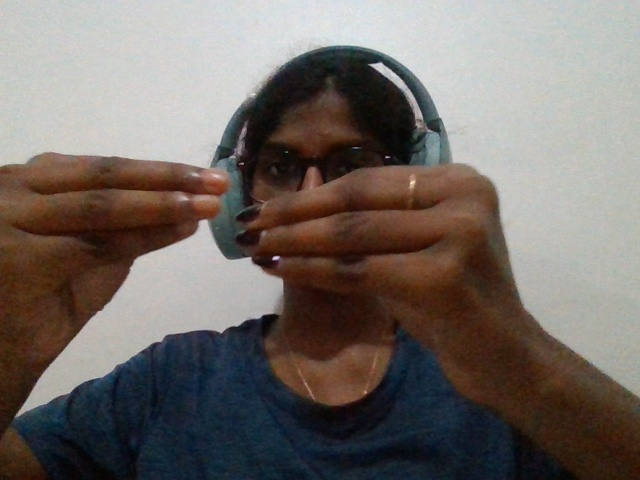More: (5, 109, 569, 445)
